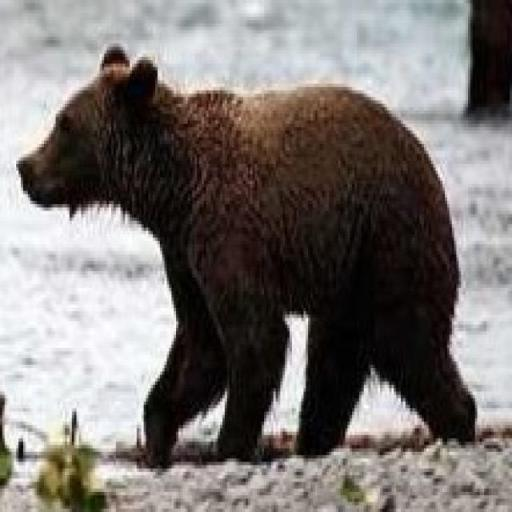Bear: (14, 44, 477, 465)
